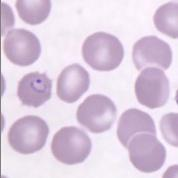Infected: (17, 72, 52, 108)
Uninfected: (82, 30, 123, 72), (116, 108, 157, 148), (132, 35, 172, 75), (2, 26, 41, 66), (75, 95, 116, 133), (133, 66, 169, 109), (127, 131, 165, 171), (6, 116, 48, 152), (51, 127, 91, 164), (56, 64, 90, 104), (152, 3, 178, 42), (15, 0, 54, 24)
